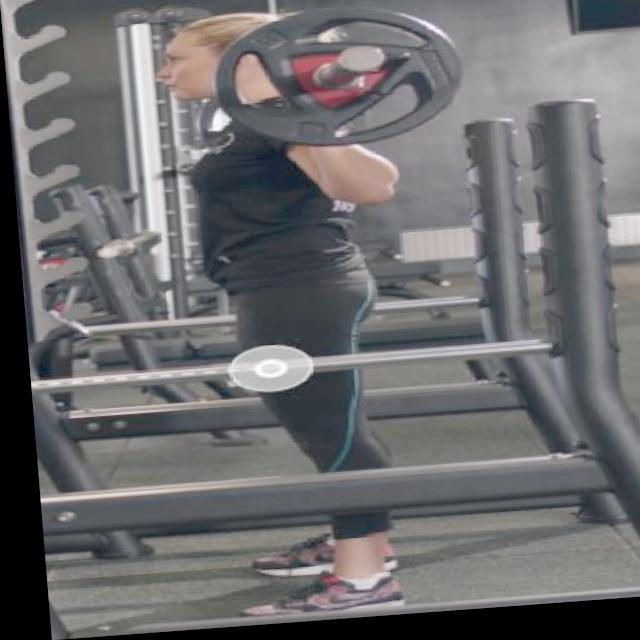barbell: (207, 1, 470, 164)
